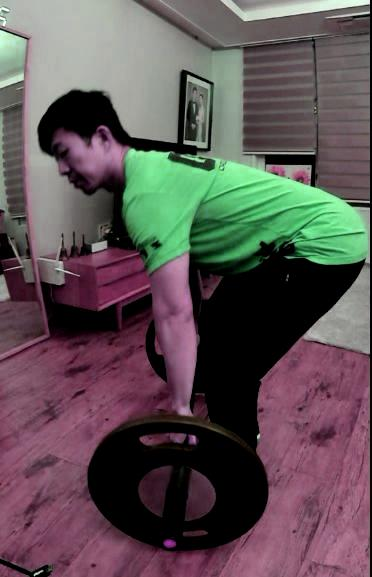Barbell: (157, 527, 184, 553)
